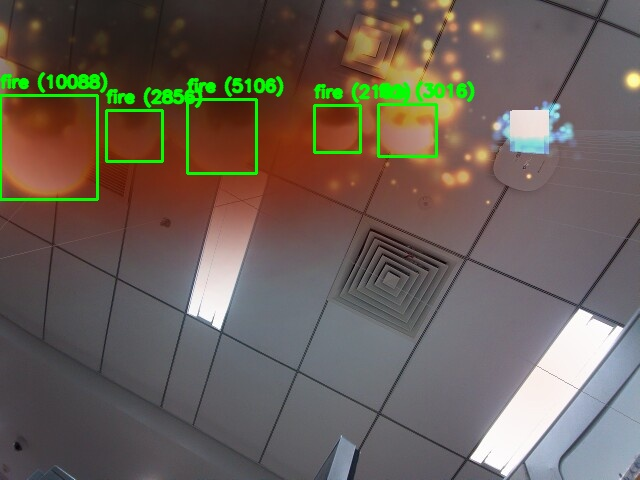fire: (0, 95, 97, 199), (187, 99, 256, 173), (378, 104, 436, 156), (106, 110, 162, 161), (314, 105, 360, 152)
